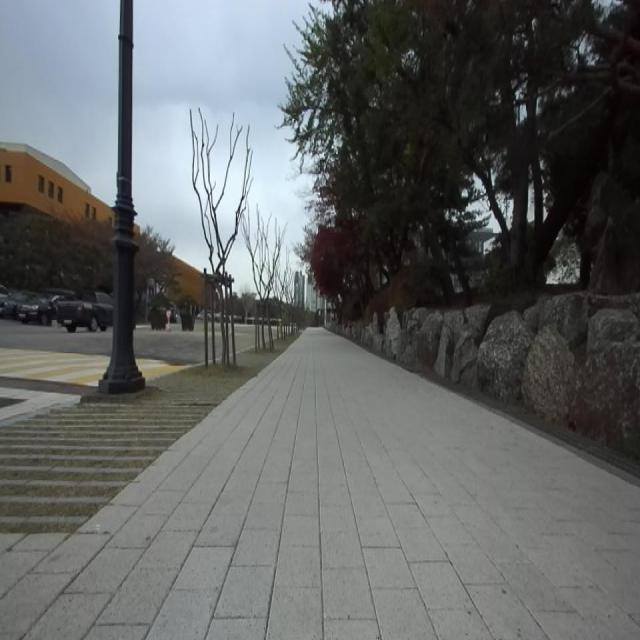sidewalk: (0, 328, 640, 639)
